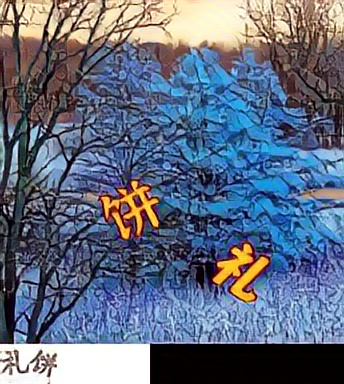B1FD: (99, 179, 164, 243)
C0F1: (206, 238, 271, 302)
